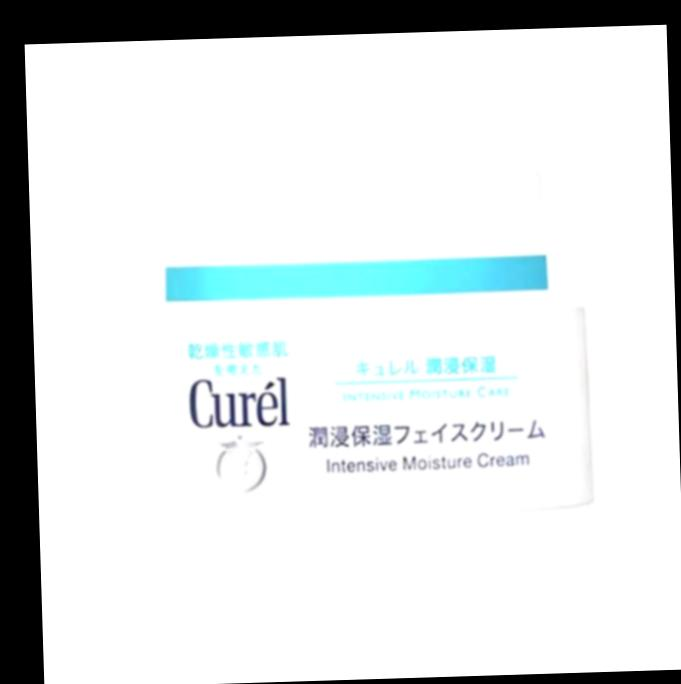cosmetic: (114, 164, 596, 521)
